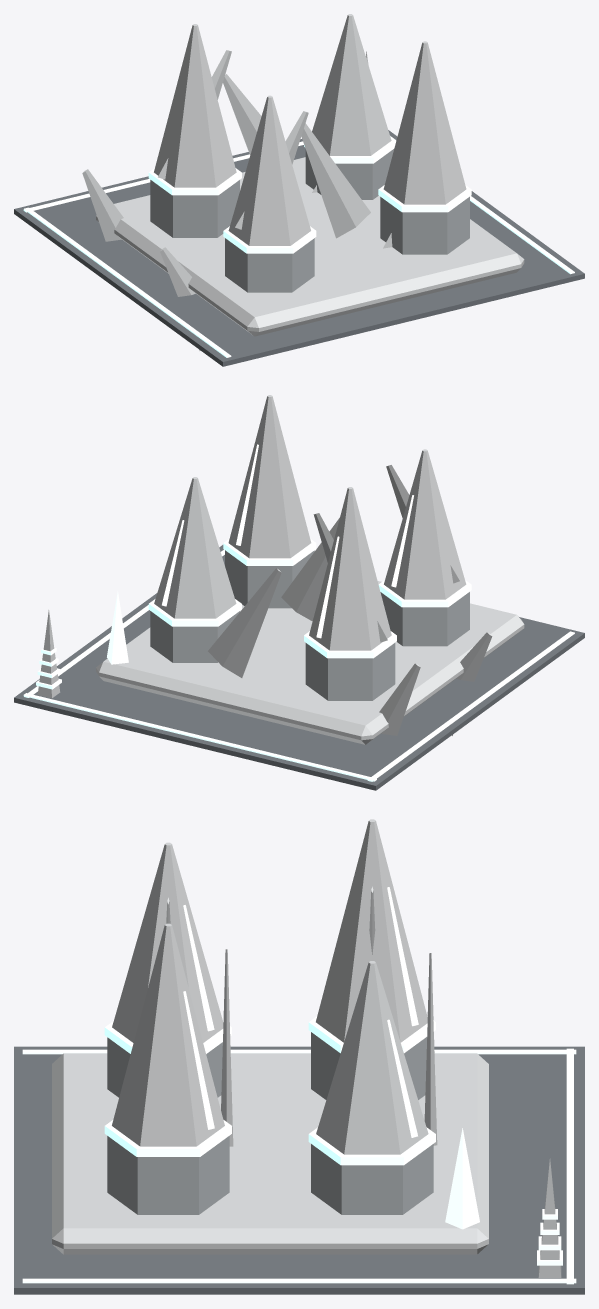
File: zone_low_4_t4.glb
3 renders of one model, top to bottom at view 1: azimuth 30°, elevation 25°; view 2: azimuth 150°, elevation 25°; view 3: azimuth 270°, elevation 25°, orthographic. The views are drawn at different scales.
Visible parts, largest first — view 1: zone_low_4_t4, detail; view 2: zone_low_4_t4, detail; view 3: zone_low_4_t4, detail.
Part boxes in pixels (bbox=[...]): zone_low_4_t4: bbox=[14, 14, 584, 366]; detail: bbox=[23, 51, 574, 357]; zone_low_4_t4: bbox=[14, 395, 584, 790]; detail: bbox=[23, 549, 574, 781]; zone_low_4_t4: bbox=[14, 819, 584, 1294]; detail: bbox=[22, 1048, 576, 1284].
Size of the model in its own units: 19.6 by 14.25 by 19.6.
